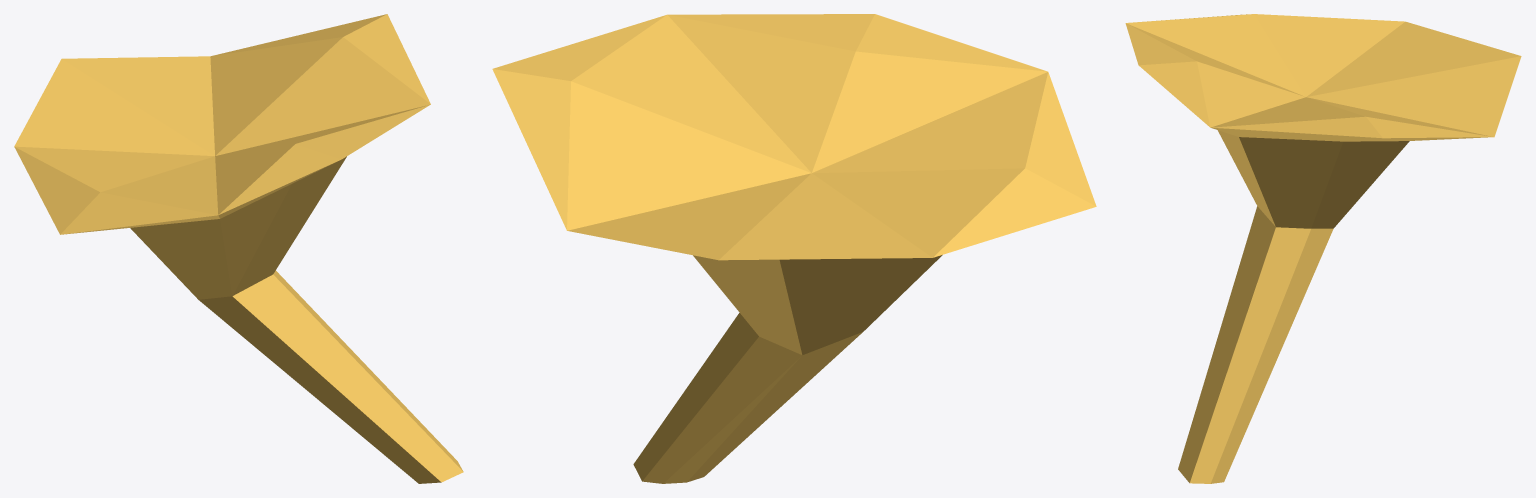
The model's file is Mushroom_j_02.fbx.
3 renders of one model, left to right at view 1: azimuth 30°, elevation 25°; view 2: azimuth 150°, elevation 25°; view 3: azimuth 270°, elevation 25°, orthographic. The views are drawn at different scales.
Visible parts, largest first — view 1: Mushroom_j_02; view 2: Mushroom_j_02; view 3: Mushroom_j_02.
Boxes of the visible parts, <box> form: Mushroom_j_02: <box>14,14,463,483</box>; Mushroom_j_02: <box>492,14,1096,483</box>; Mushroom_j_02: <box>1125,14,1521,483</box>.
Bounding box in the file's own units: 10.03 × 9.04 × 9.01.
